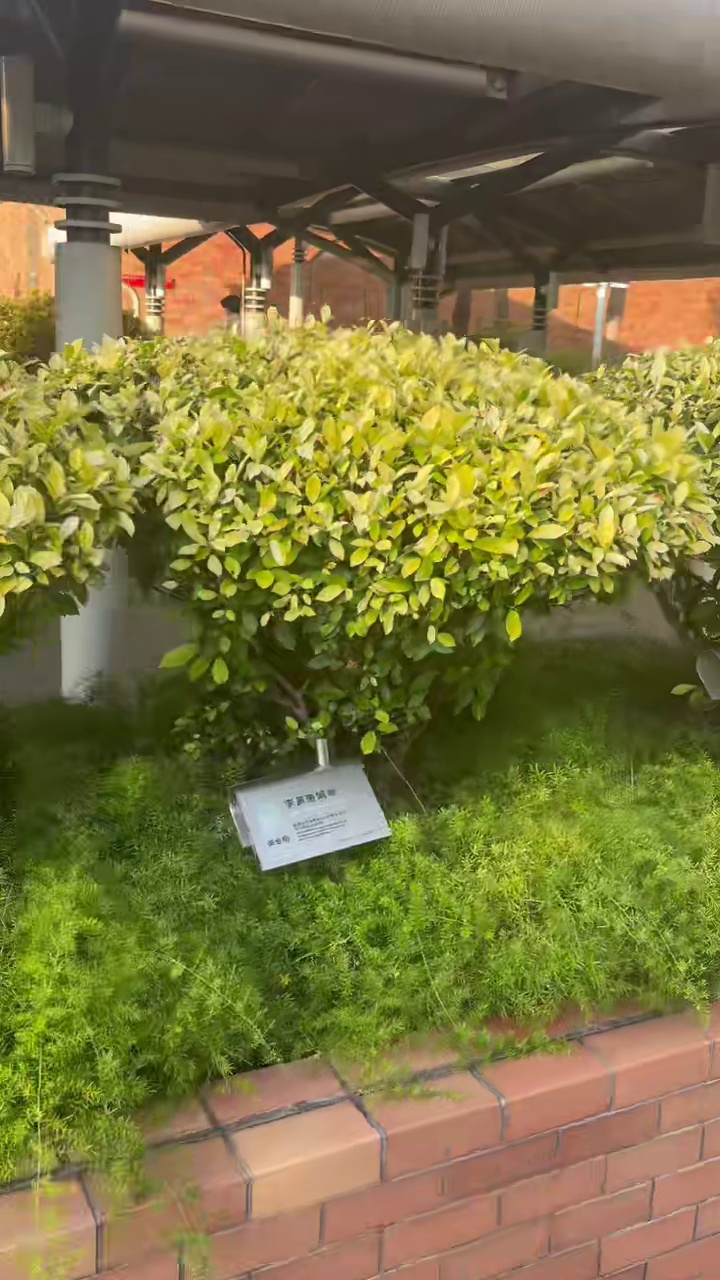Golden-leaves Fig: (42, 322, 713, 753)
